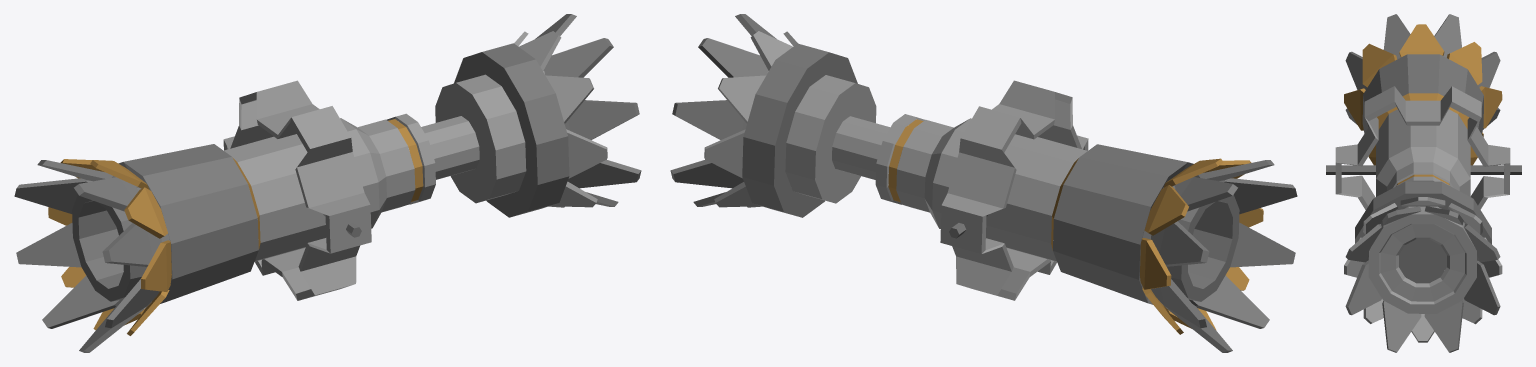
Rendered from Props_Laser.glb.
3 renders of one model, left to right at view 1: azimuth 30°, elevation 25°; view 2: azimuth 150°, elevation 25°; view 3: azimuth 270°, elevation 25°, orthographic. The views are drawn at different scales.
Visible parts, largest first — view 1: DarkGrey, Main, Accent; view 2: DarkGrey, Main, Accent; view 3: Main, DarkGrey, Accent.
Boxes of the visible parts, <box> form: DarkGrey: <box>14,14,641,352</box>; Main: <box>223,31,607,300</box>; Accent: <box>48,119,423,335</box>; DarkGrey: <box>670,14,1297,352</box>; Main: <box>704,31,1088,300</box>; Accent: <box>888,119,1263,334</box>; Main: <box>1335,86,1510,342</box>; DarkGrey: <box>1326,14,1521,352</box>; Accent: <box>1344,24,1502,185</box>.
Bounding box in the file's own units: 3.84 × 1.29 × 1.46.
